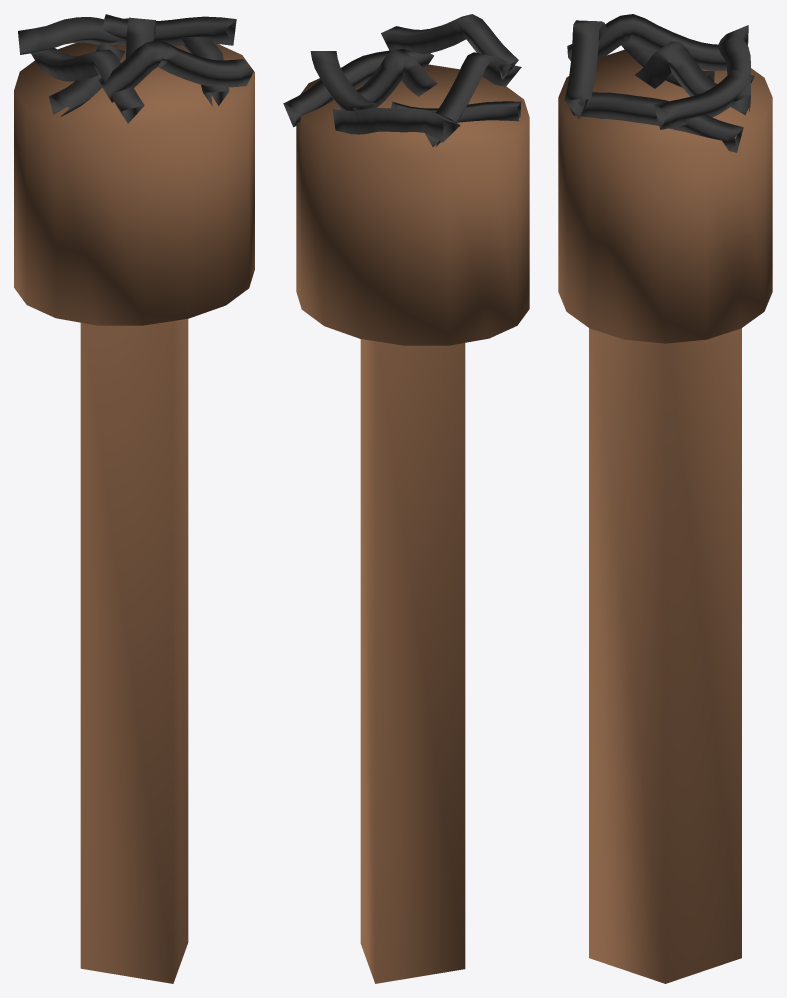
File: torche1.obj
3 views of the same model, side by side, from view 1: azimuth 30°, elevation 25°; view 2: azimuth 150°, elevation 25°; view 3: azimuth 270°, elevation 25° (orthographic). The views are drawn at different scales.
Visible parts, largest first — view 1: Lamp, Wick5, Wick2, Wick4, Wick3, Wick4_1, Wick1, Wick2_1; view 2: Lamp, Wick5, Wick3, Wick2, Wick1, Wick2_1, Wick4, Wick4_1; view 3: Lamp, Wick1, Wick2, Wick4, Wick5, Wick2_1, Wick3, Wick4_1.
Boxes of the visible parts, left/top/right/bottom form: Lamp: left=14, top=42, right=254, bottom=983; Wick5: left=98, top=40, right=253, bottom=102; Wick2: left=30, top=48, right=144, bottom=123; Wick4: left=102, top=14, right=236, bottom=46; Wick3: left=18, top=17, right=128, bottom=54; Wick4_1: left=49, top=43, right=125, bottom=116; Wick1: left=181, top=37, right=229, bottom=106; Wick2_1: left=126, top=17, right=156, bottom=58; Lamp: left=296, top=64, right=529, bottom=983; Wick5: left=381, top=14, right=518, bottom=79; Wick3: left=332, top=108, right=460, bottom=142; Wick2: left=425, top=52, right=521, bottom=147; Wick1: left=283, top=49, right=433, bottom=127; Wick2_1: left=356, top=49, right=437, bottom=107; Wick4: left=310, top=51, right=376, bottom=118; Wick4_1: left=391, top=101, right=521, bottom=122; Lamp: left=558, top=49, right=772, bottom=983; Wick1: left=567, top=92, right=743, bottom=152; Wick2: left=567, top=14, right=726, bottom=70; Wick4: left=653, top=69, right=754, bottom=129; Wick5: left=564, top=20, right=607, bottom=118; Wick2_1: left=635, top=41, right=717, bottom=96; Wick3: left=717, top=25, right=750, bottom=115; Wick4_1: left=621, top=40, right=714, bottom=87.
Bounding box in the file's own units: 0.4 × 1.67 × 0.35.
